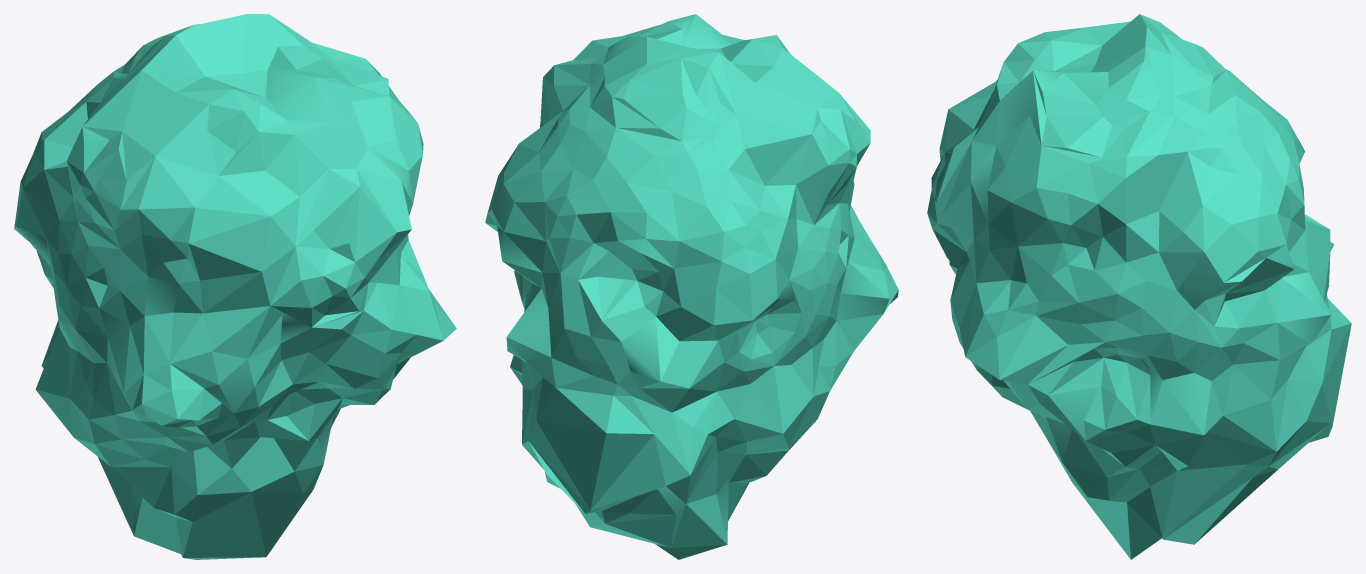
File: asteroid.obj
3 views of the same model, side by side, from view 1: azimuth 30°, elevation 25°; view 2: azimuth 150°, elevation 25°; view 3: azimuth 270°, elevation 25° (orthographic). The views are drawn at different scales.
Visible parts, largest first — view 1: Moon; view 2: Moon; view 3: Moon.
Boxes of the visible parts, left/top/right/bottom form: Moon: left=14, top=14, right=456, bottom=559; Moon: left=485, top=14, right=898, bottom=559; Moon: left=927, top=14, right=1351, bottom=559.
Size of the model in its own units: 8.43 by 13.45 by 10.17.
